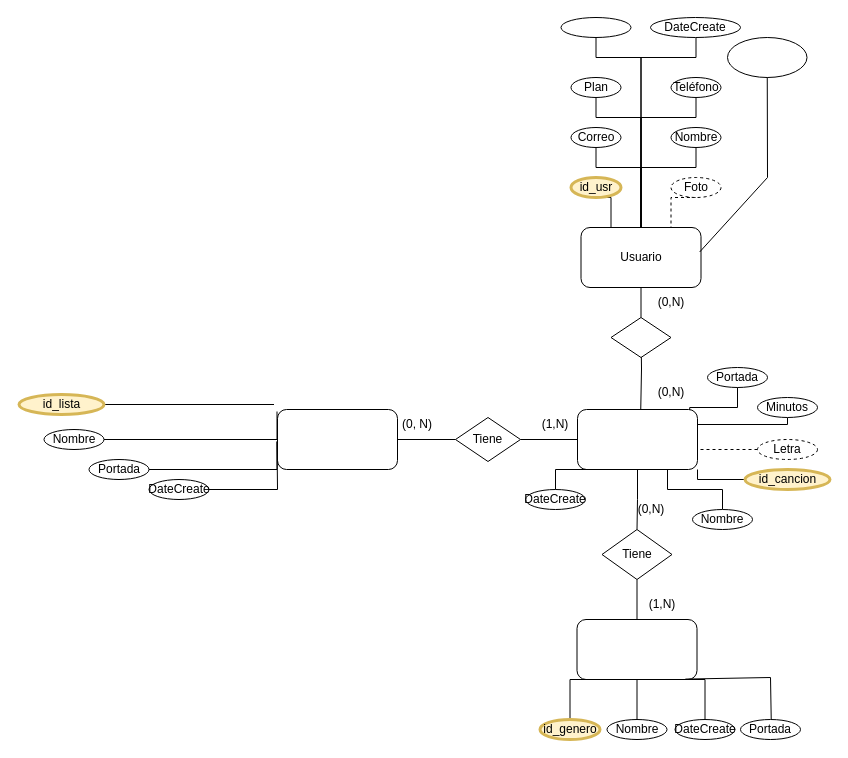
The diagram is 848 pixels wide and 758 high, and some of its shapes have lost their labels. The centre of each missing label's shape, as x and y in pixels:
"año nacimiento" belongs at point (766, 57).
"Cancion" belongs at point (637, 439).
"Contraseña" belongs at point (595, 27).
"Genero" belongs at point (636, 649).
"Lista" belongs at point (337, 439).
"Reproduce" belongs at point (640, 337).
